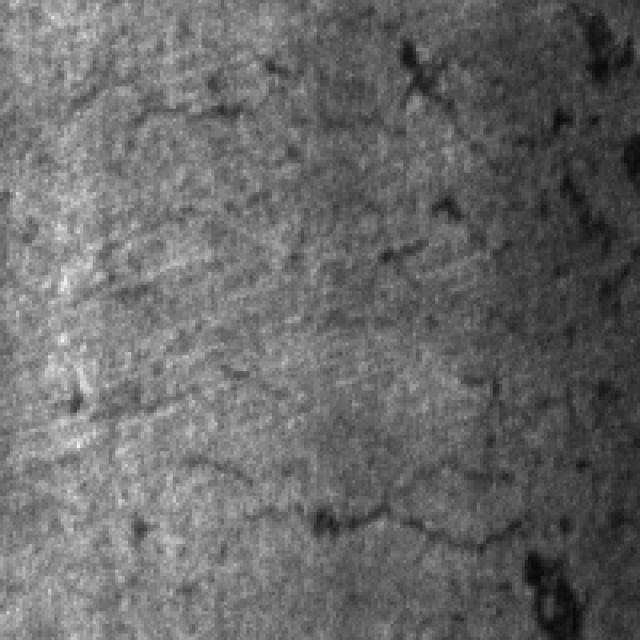crazing: (70, 64, 496, 227), (228, 362, 550, 544)
